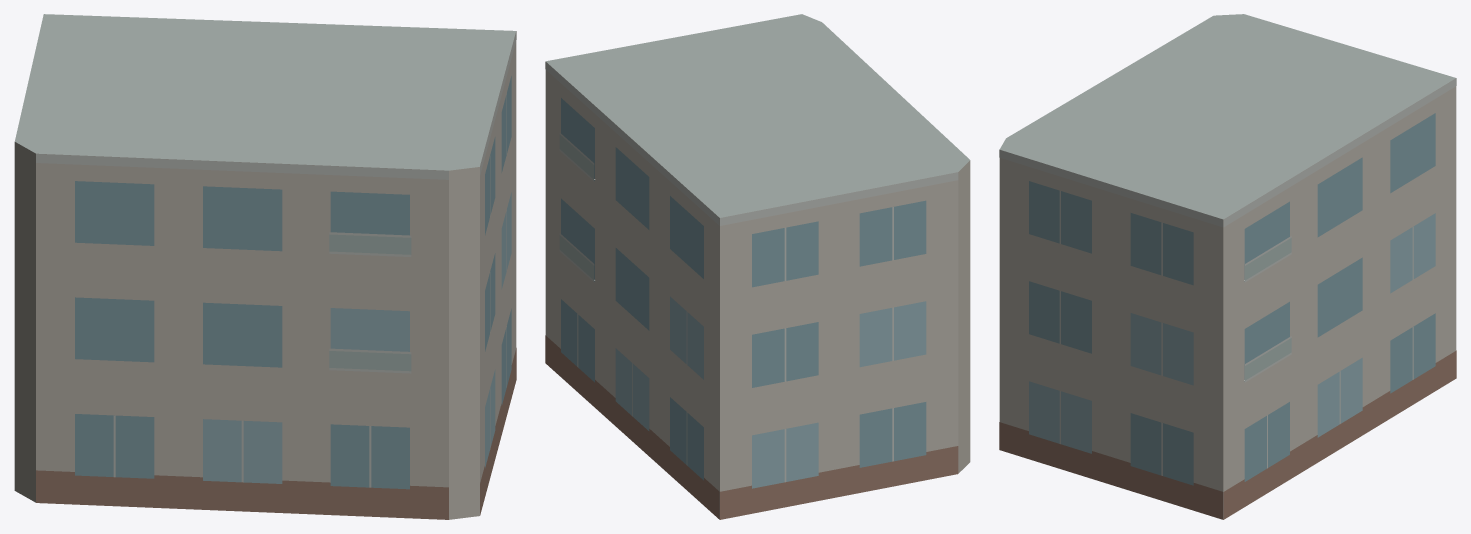
The model's file is survey-upis-32668502.glb.
3 views of the same model, side by side, from view 1: azimuth 30°, elevation 25°; view 2: azimuth 150°, elevation 25°; view 3: azimuth 270°, elevation 25° (orthographic). The views are drawn at different scales.
Parts seen in each view (by area): view 1: survey-upis-32668502.tmp; view 2: survey-upis-32668502.tmp; view 3: survey-upis-32668502.tmp.
Boxes of the visible parts, box(x1,y1,x2,y2) form: survey-upis-32668502.tmp: box(14, 14, 516, 519); survey-upis-32668502.tmp: box(545, 14, 970, 519); survey-upis-32668502.tmp: box(999, 14, 1456, 519).
Size of the model in its own units: 13.43 by 9.15 by 12.62.
